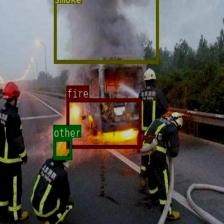fire: (66, 98, 140, 147)
smoke: (53, 0, 157, 62)
